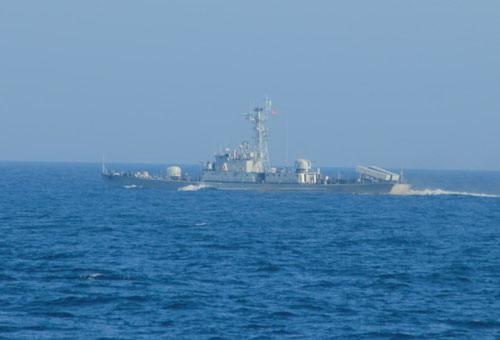MIL_Ship: (96, 97, 409, 195)
